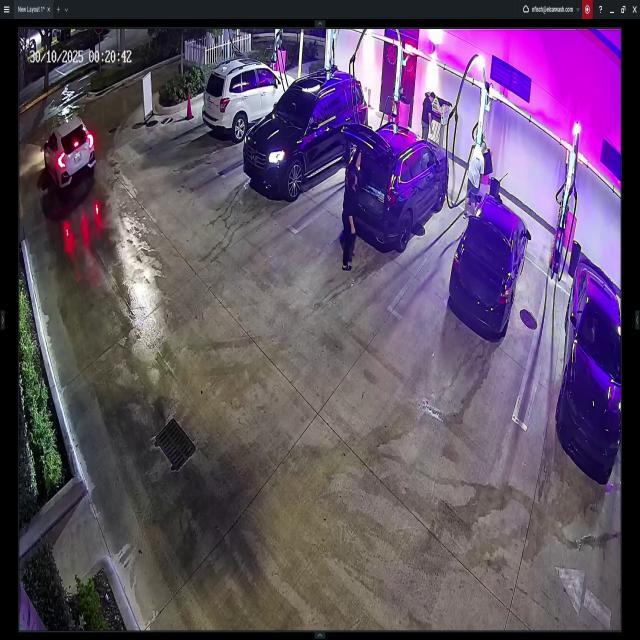Car: (248, 71, 367, 199), (557, 264, 623, 478), (345, 122, 450, 248), (450, 186, 528, 335), (201, 58, 297, 140), (43, 116, 96, 190)
